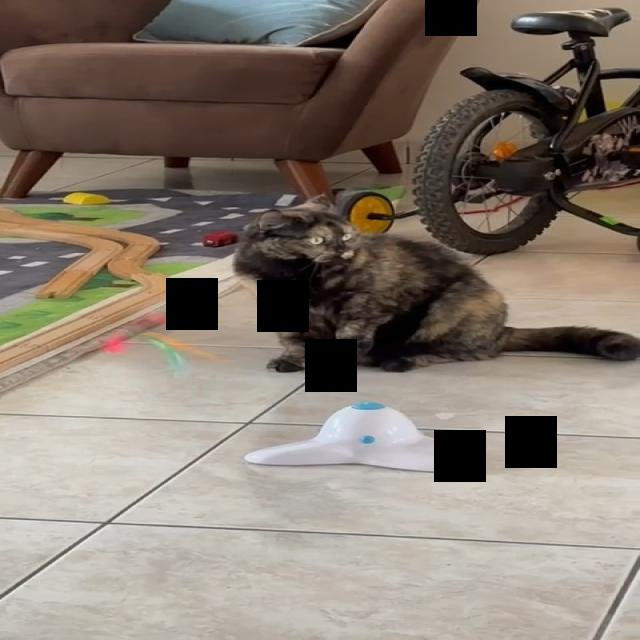authorized: (231, 192, 638, 373)
